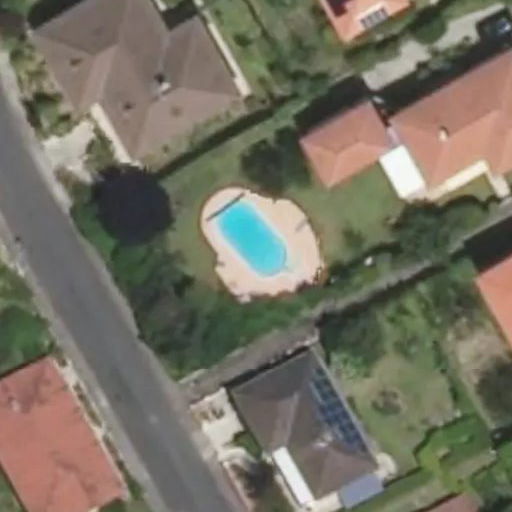pool: (214, 222, 297, 261)
